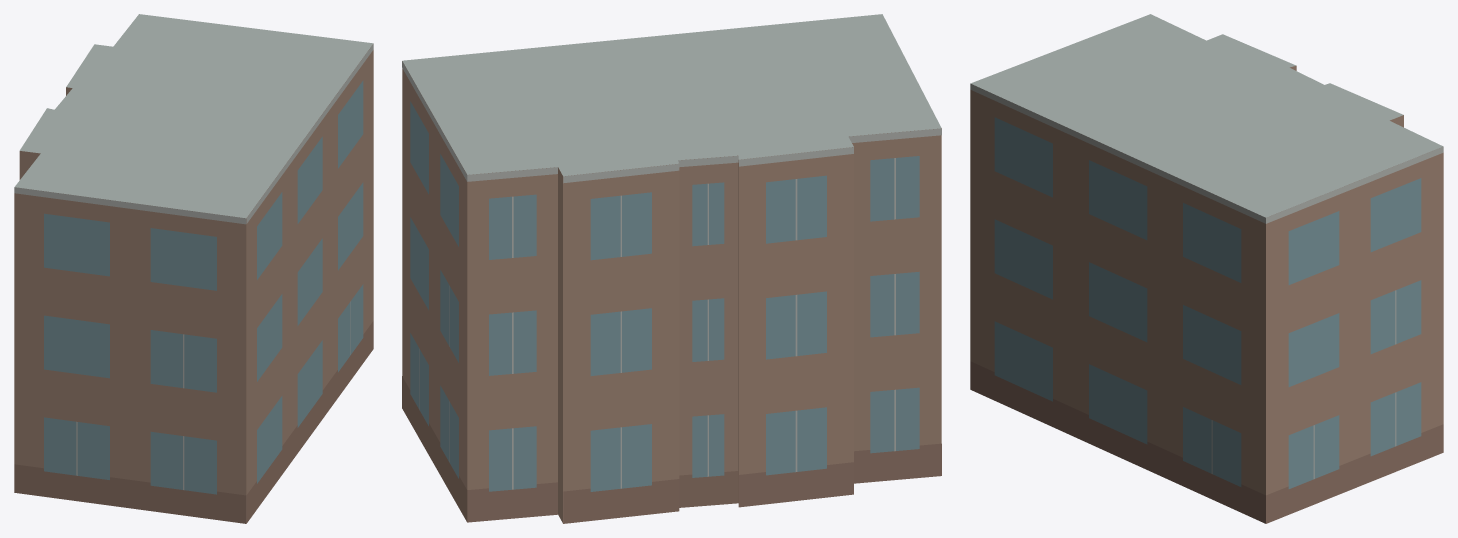
File: survey-upis-32918517.glb
3 renders of one model, left to right at view 1: azimuth 30°, elevation 25°; view 2: azimuth 150°, elevation 25°; view 3: azimuth 270°, elevation 25°, orthographic. The views are drawn at different scales.
Visible parts, largest first — view 1: survey-upis-32918517.tmp; view 2: survey-upis-32918517.tmp; view 3: survey-upis-32918517.tmp.
Part boxes in pixels (bbox=[...]): survey-upis-32918517.tmp: bbox=[14, 14, 373, 523]; survey-upis-32918517.tmp: bbox=[402, 14, 941, 523]; survey-upis-32918517.tmp: bbox=[970, 14, 1443, 523].
Size of the model in its own units: 17.42 by 12.2 by 17.1.
